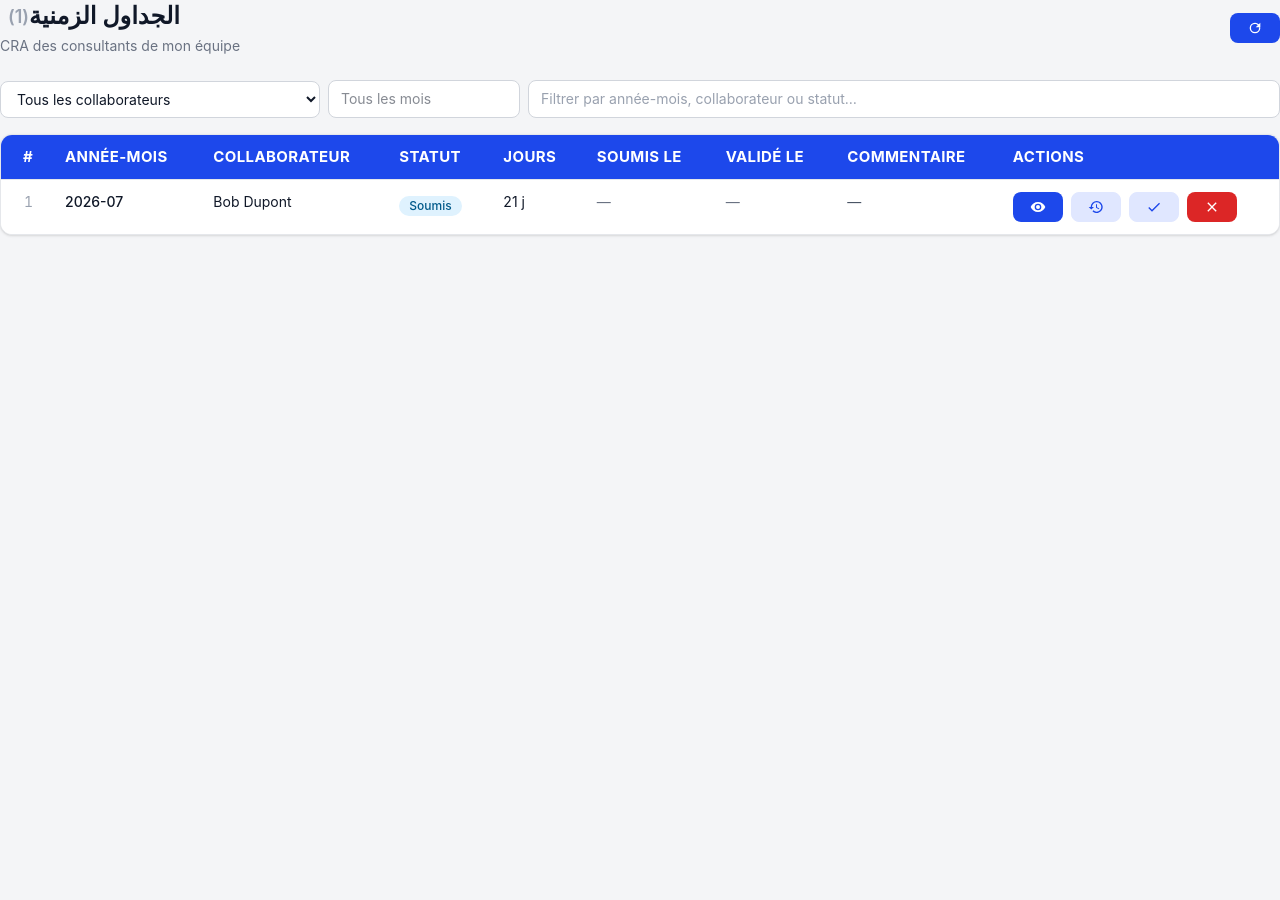
Test: CraList › affiche le commentaire d’historique sans traduction dynamique
The image size is (1280, 900).
Click the button named "Historique".
click(1096, 207)  # box [1071,192,1121,222]
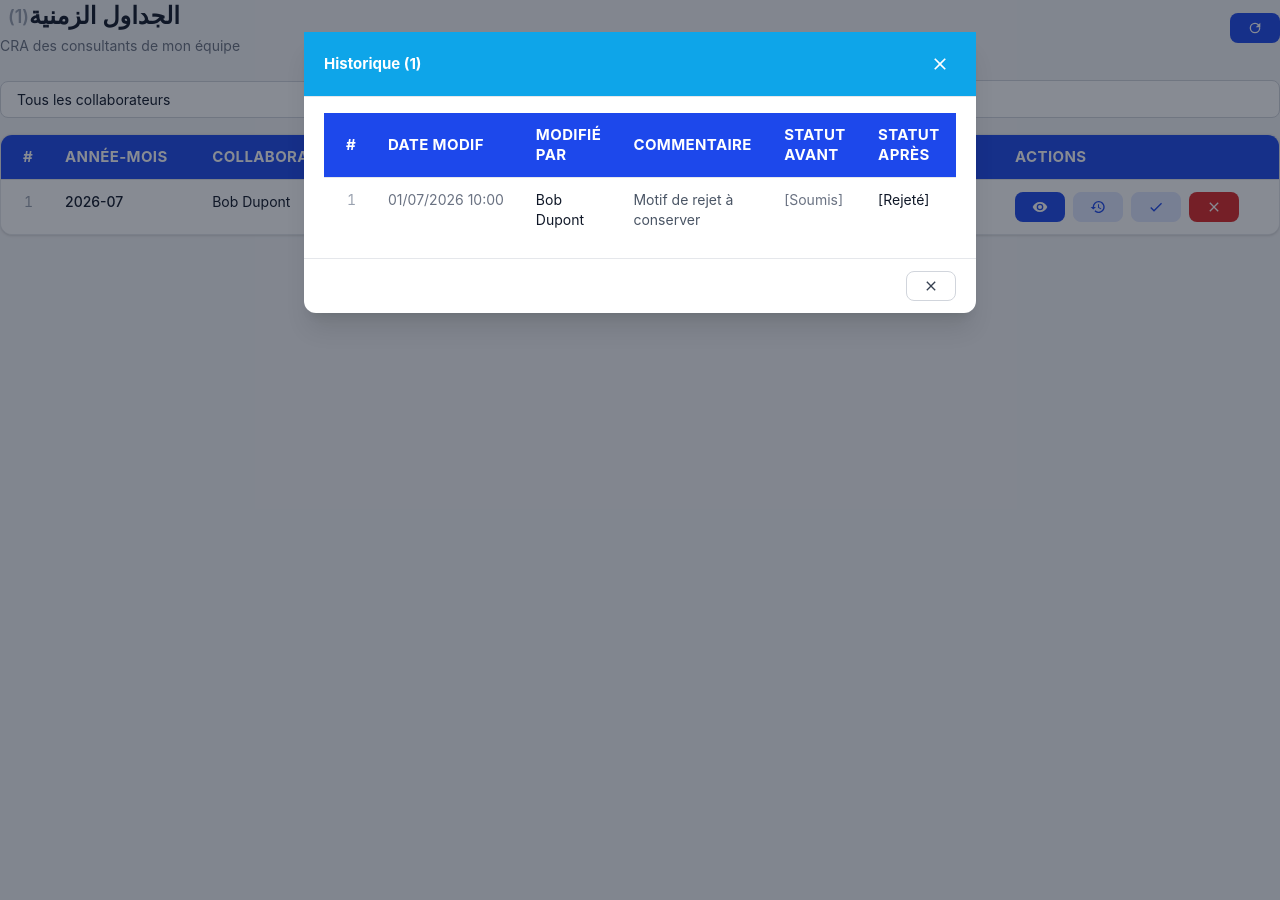
Expected: the text "Motif de rejet à conserver" is shown, [617,178,768,242]
